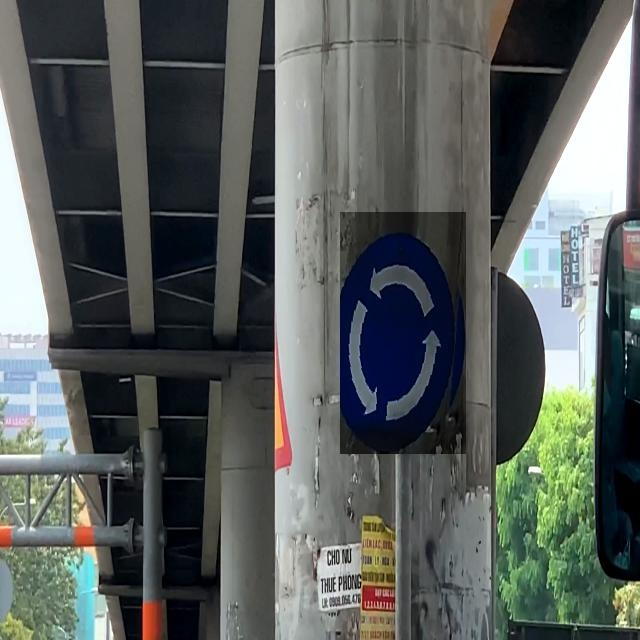bien_chi_dan: (340, 212, 466, 454)
